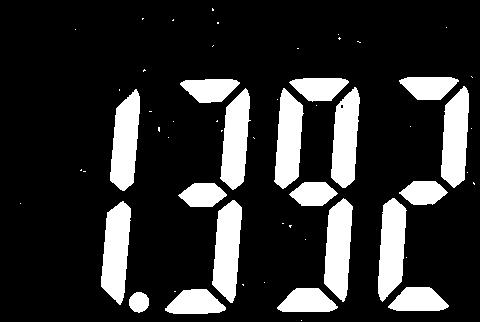1: (96, 87, 143, 307)
2: (376, 73, 472, 312)
3: (163, 76, 253, 319)
9: (271, 77, 361, 314)
dot: (127, 287, 153, 314)
